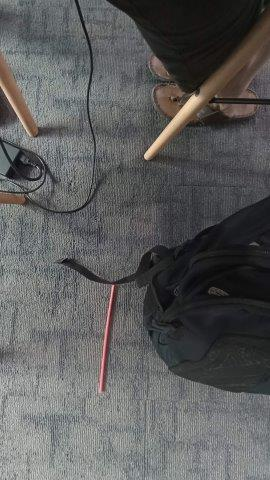sedotan: (99, 286, 114, 392)
